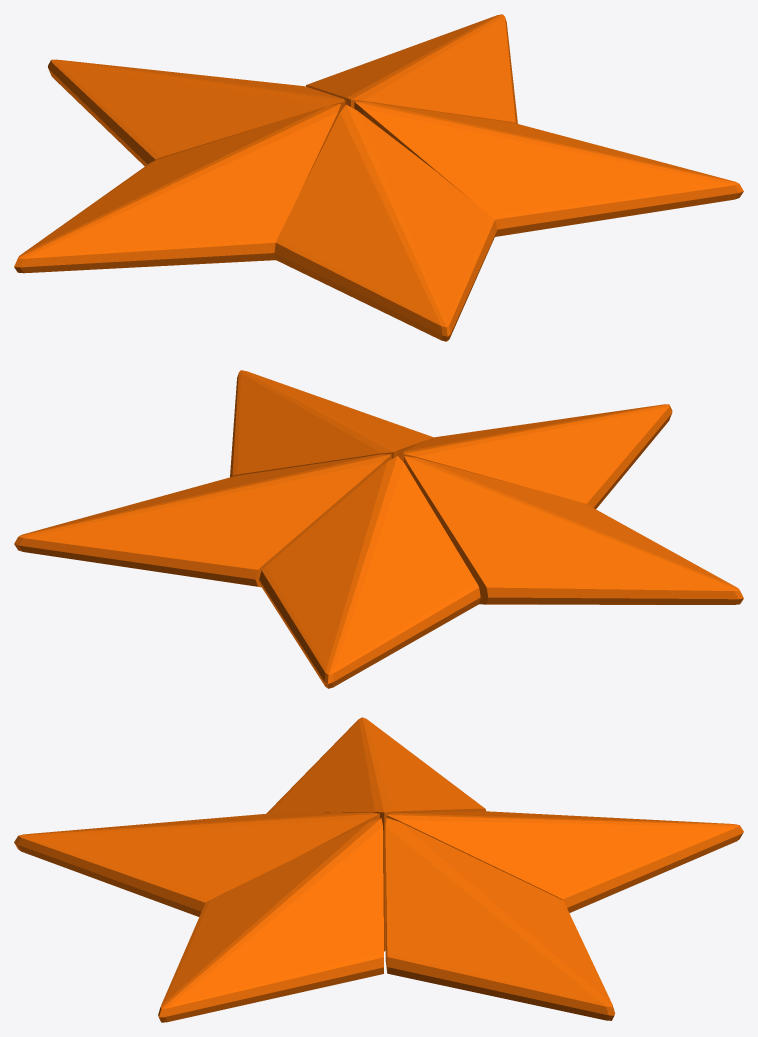
The model's file is StarPieces.FBX.
3 renders of one model, top to bottom at view 1: azimuth 30°, elevation 25°; view 2: azimuth 150°, elevation 25°; view 3: azimuth 270°, elevation 25°, orthographic. The views are drawn at different scales.
Parts seen in each view (by area): view 1: StarPiece005, StarPiece001, StarPiece004, StarPiece002, StarPiece003; view 2: StarPiece002, StarPiece001, StarPiece003, StarPiece005, StarPiece004; view 3: StarPiece003, StarPiece004, StarPiece005, StarPiece002, StarPiece001.
Part boxes in pixels (x1,y1,x2,y2): StarPiece005: (274, 104, 497, 341); StarPiece001: (14, 103, 341, 273); StarPiece004: (354, 101, 743, 236); StarPiece002: (48, 59, 345, 166); StarPiece003: (306, 14, 517, 123); StarPiece002: (259, 456, 480, 688); StarPiece001: (404, 456, 743, 604); StarPiece003: (14, 454, 391, 587); StarPiece005: (403, 404, 672, 508); StarPiece004: (230, 370, 432, 477); StarPiece003: (385, 818, 615, 1020); StarPiece004: (158, 818, 383, 1022); StarPiece005: (14, 812, 379, 916); StarPiece002: (386, 811, 743, 912); StarPiece001: (266, 717, 485, 951).
Size of the model in its own units: 47.27 by 10.41 by 49.45.
